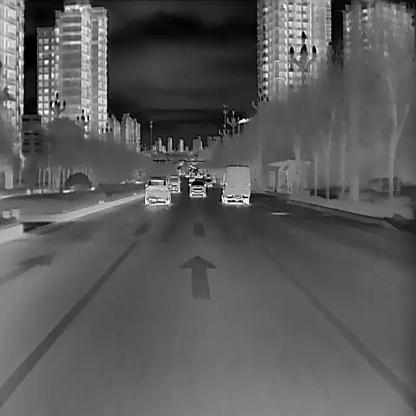car: (220, 164, 250, 204), (144, 176, 170, 206), (188, 180, 206, 198), (166, 174, 179, 192), (204, 177, 212, 187), (189, 175, 193, 182)
